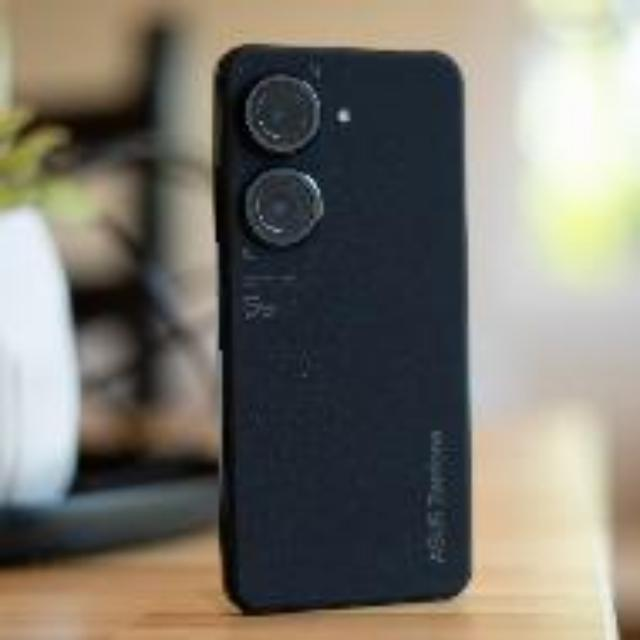phone: (220, 54, 466, 603)
